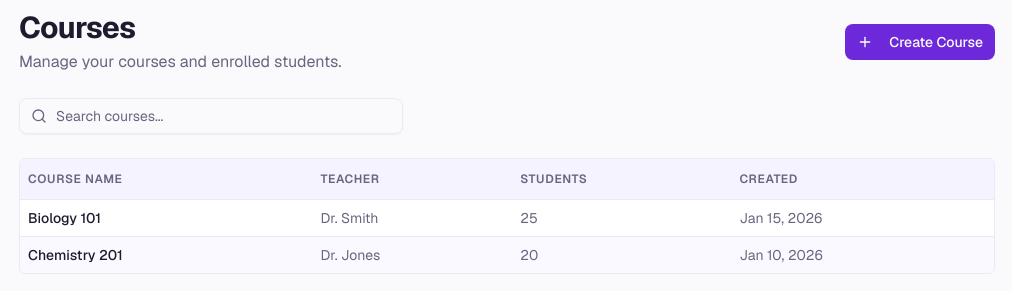
Test: CoursesListView › filters courses by search query
Expected: the text "Biology 101" is shown, [20,199,313,236]
Type "Biology" into the field with placeholder "Search courses..." at point(211, 116), box [19,98,403,134]
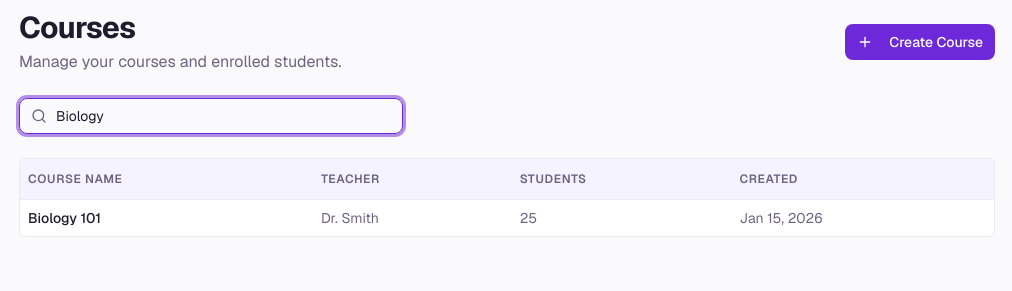
Expected: the text "Biology 101" is shown, [20,199,313,236]
Result: the text "Chemistry 201" is gone
